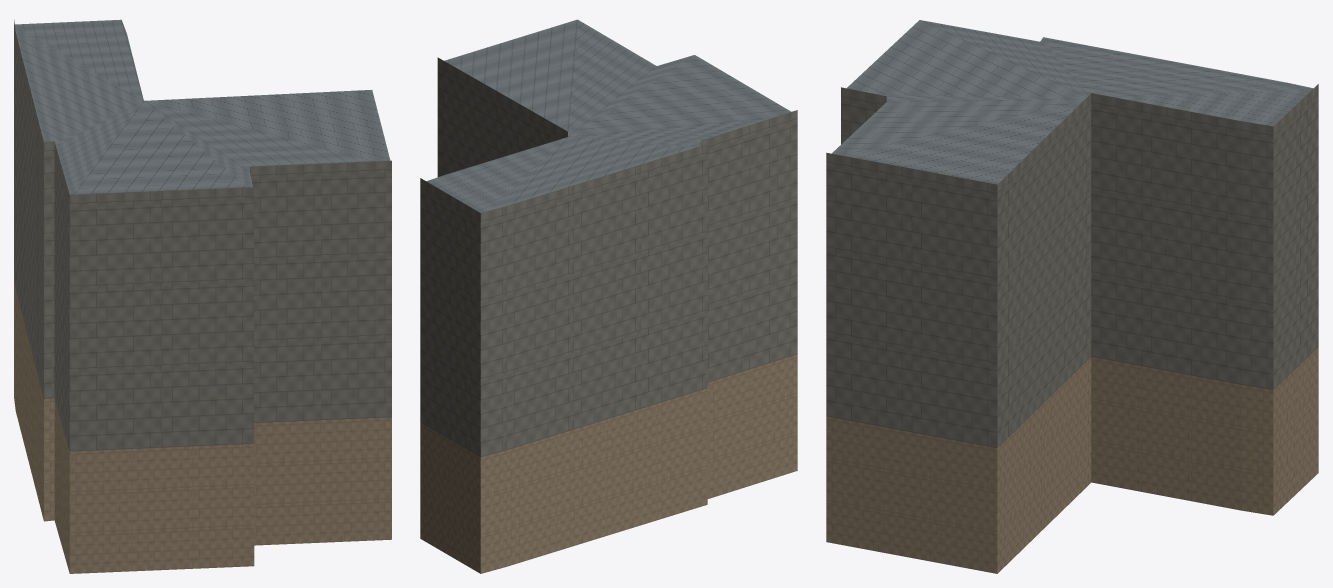
File: core_0101.gltf
3 renders of one model, left to right at view 1: azimuth 30°, elevation 25°; view 2: azimuth 150°, elevation 25°; view 3: azimuth 270°, elevation 25°, orthographic. The views are drawn at different scales.
Parts seen in each view (by area): view 1: core_0101; view 2: core_0101; view 3: core_0101.
Part boxes in pixels (<box>): core_0101: <box>14,19,391,573</box>; core_0101: <box>420,19,797,573</box>; core_0101: <box>826,20,1318,573</box>.
Size of the model in its own units: 14.82 by 15.78 by 18.09.
3 materials, 3 textured.
